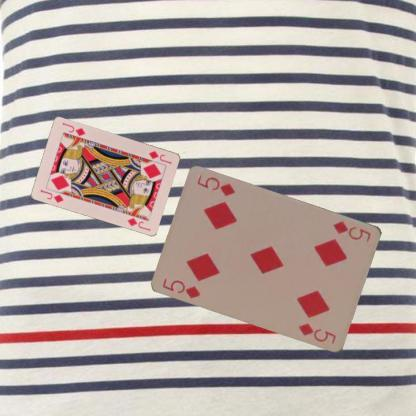5d: (330, 219, 373, 244), (160, 276, 202, 300)
Jd: (146, 148, 173, 165), (38, 187, 65, 204)
